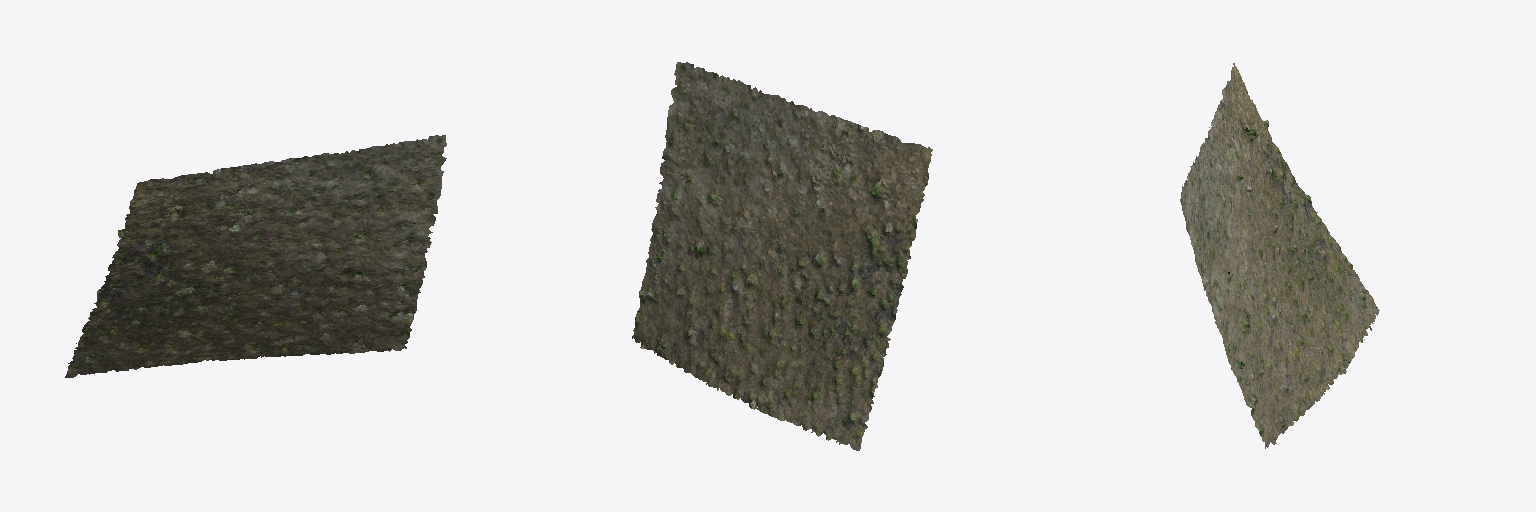
3 renders of one model, left to right at view 1: azimuth 30°, elevation 25°; view 2: azimuth 150°, elevation 25°; view 3: azimuth 270°, elevation 25°, orthographic.
Size of the model in its own units: 1.14 by 0.9496 by 0.6826.
Materials: 1 (1 with a texture image).